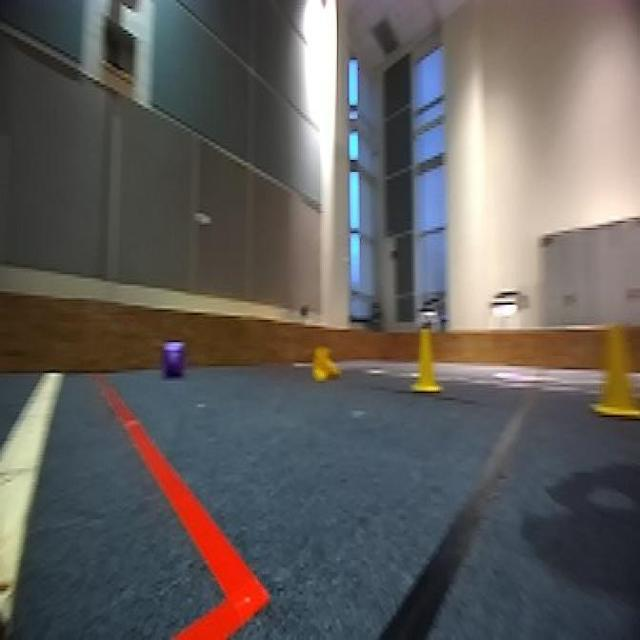frc_cone: (592, 325, 638, 419), (410, 325, 444, 395), (310, 346, 343, 381)
frc_cube: (164, 342, 185, 378)
